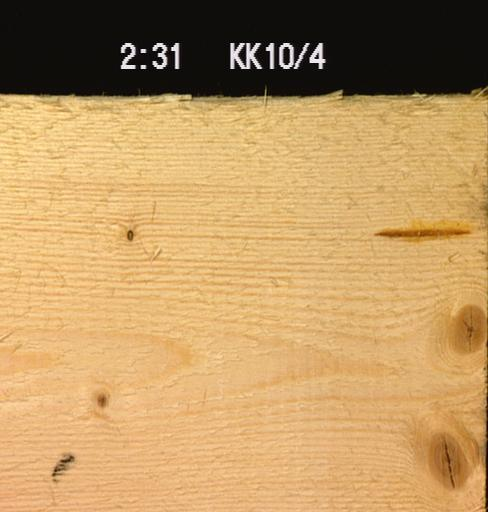dry_knot: (121, 227, 136, 243)
sound_knot: (420, 424, 476, 490), (443, 301, 486, 359), (92, 389, 110, 411)
